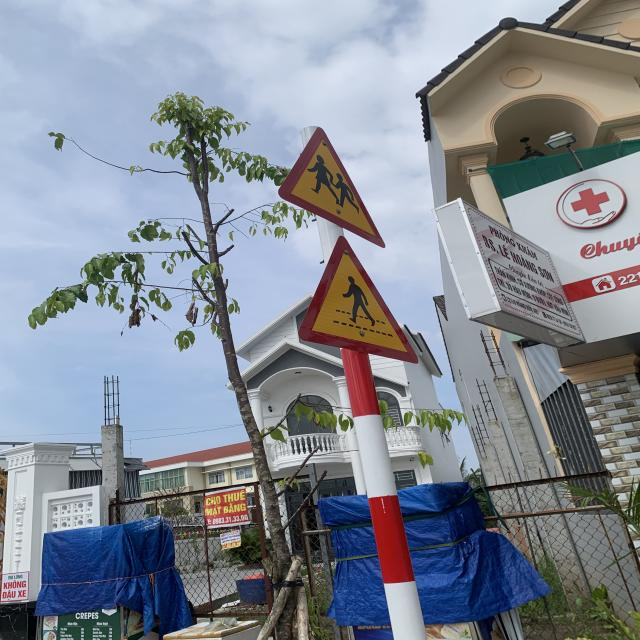Duong_Nguoi_Di_Bo_Sang_Ngang: (298, 235, 418, 365)
Vong_Xuyen: (280, 126, 390, 250)
